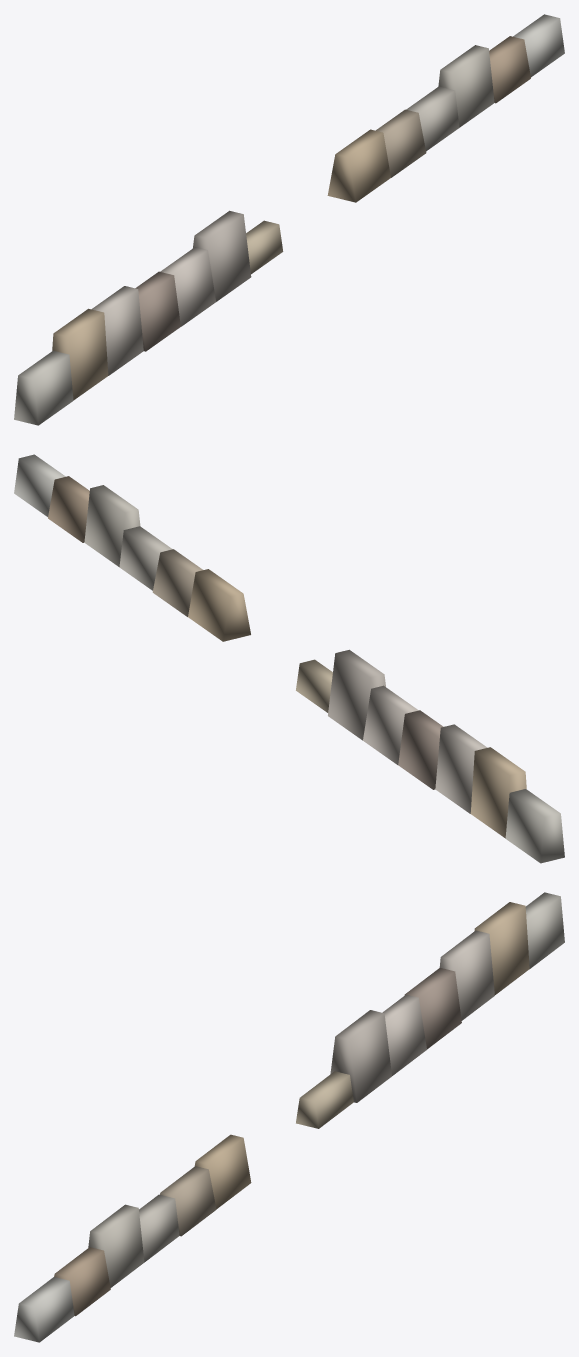
Rendered from farm_-24_-37_collision.glb.
3 renders of one model, top to bottom at view 1: azimuth 90°, elevation 25°; view 2: azimuth 150°, elevation 25°; view 3: azimuth 270°, elevation 25°, orthographic.
Visible parts, largest first — view 1: geometry_0; view 2: geometry_0; view 3: geometry_0.
Part boxes in pixels (x1=…): geometry_0: x1=14, y1=14, x2=564, y2=425; geometry_0: x1=14, y1=454, x2=564, y2=863; geometry_0: x1=14, y1=892, x2=564, y2=1342.
Size of the model in its own units: 20.48 by 1.83 by 12.16.
